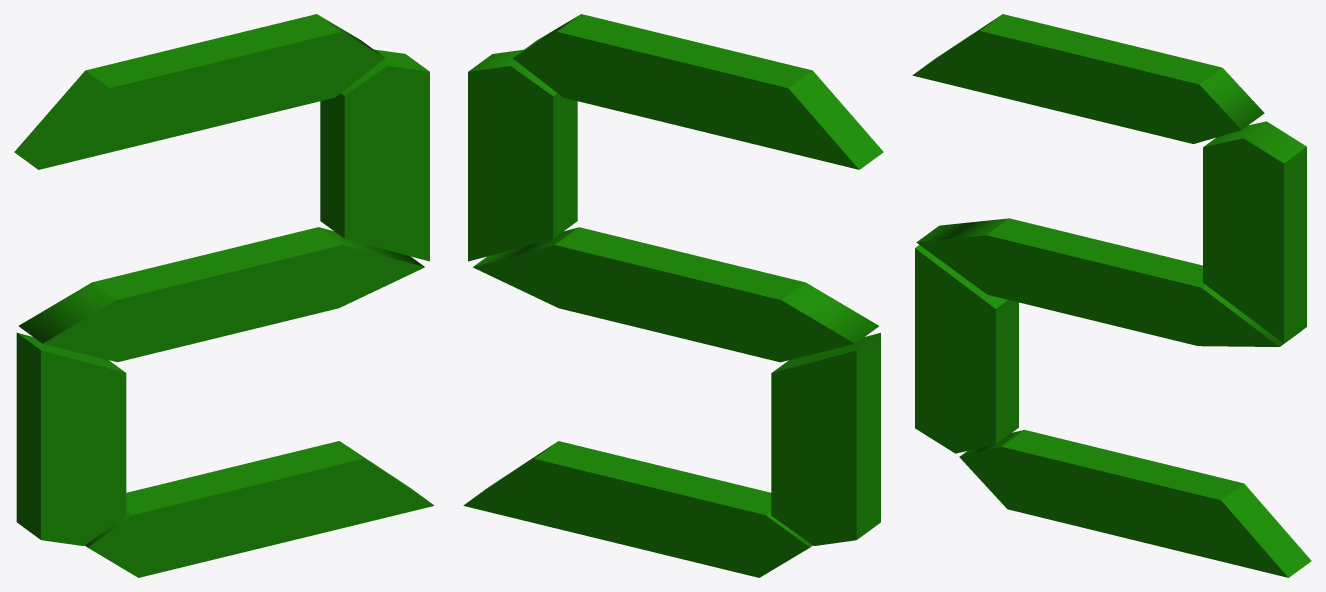
Rendered from two.FBX.
3 views of the same model, side by side, from view 1: azimuth 30°, elevation 25°; view 2: azimuth 150°, elevation 25°; view 3: azimuth 330°, elevation 25° (orthographic). The views are drawn at different scales.
Parts seen in each view (by area): view 1: Box008; view 2: Box008; view 3: Box008.
Part boxes in pixels (left/top/right/bottom): Box008: left=14, top=14, right=434, bottom=577; Box008: left=463, top=14, right=883, bottom=577; Box008: left=912, top=14, right=1311, bottom=577.
Size of the model in its own units: 74.06 by 88.71 by 7.91.
